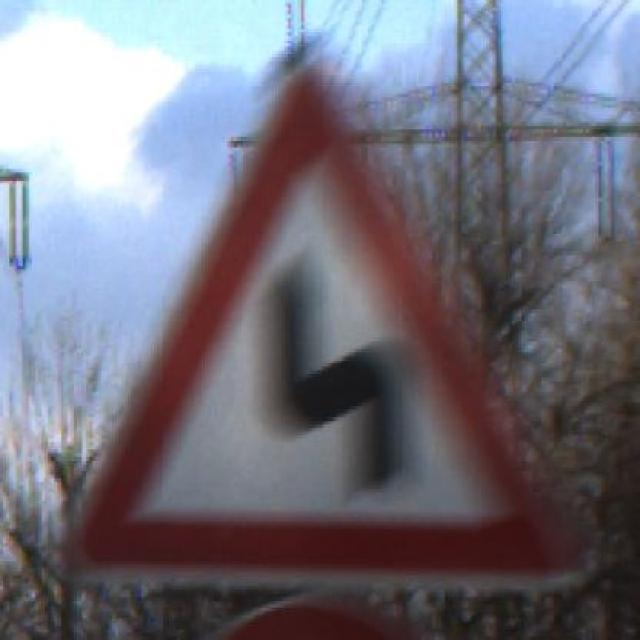Left Zig Zag Traffic: (51, 75, 595, 600)
